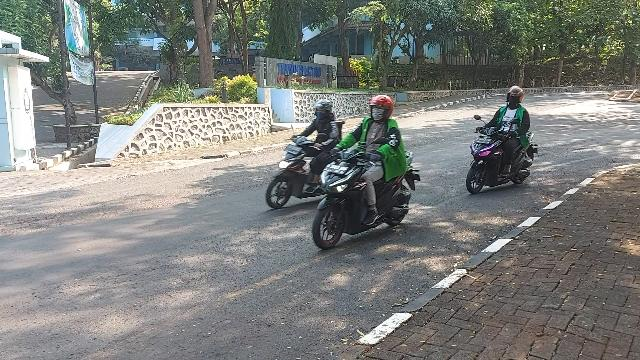helm: (370, 96, 394, 121), (315, 100, 333, 120), (508, 87, 525, 105)
motor: (315, 138, 422, 251), (267, 126, 333, 211), (468, 116, 539, 195)
